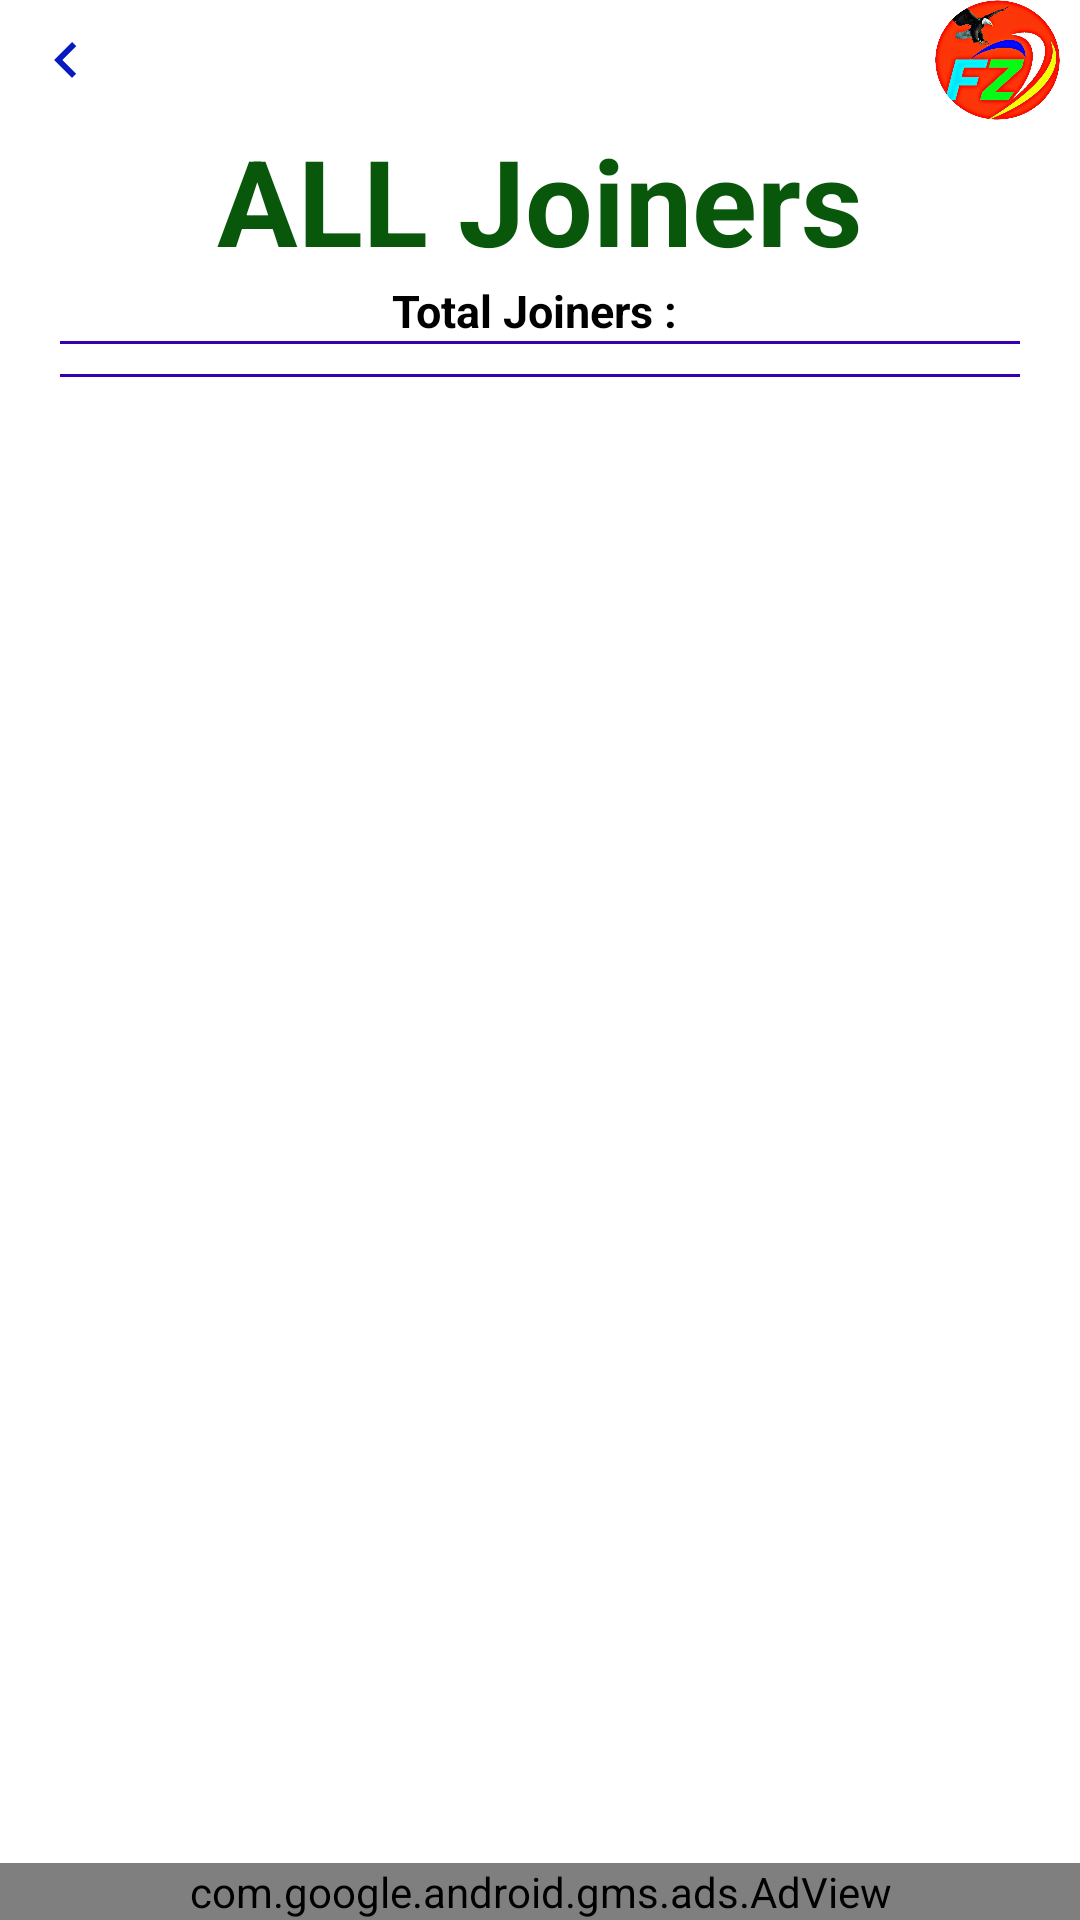

Where icons sit on this 1080 × 1920 app screen, as (x1, y1, x2, y2):
keyboard arrow left: (54, 42, 76, 78)
